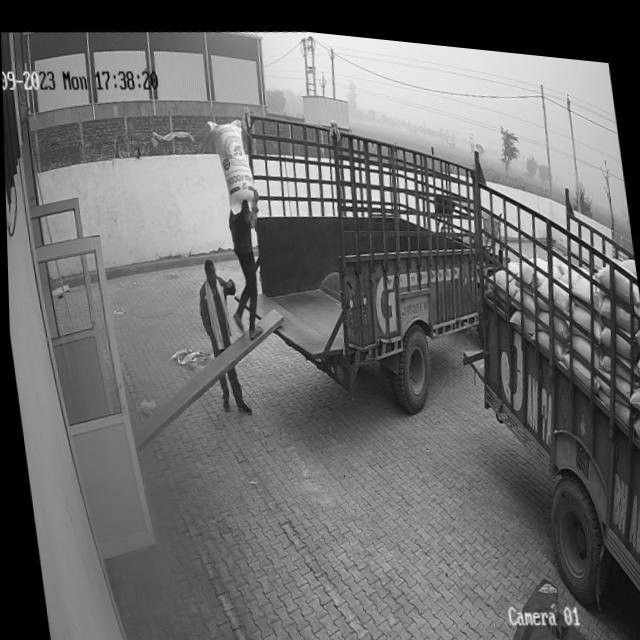sack: (206, 109, 257, 212)
